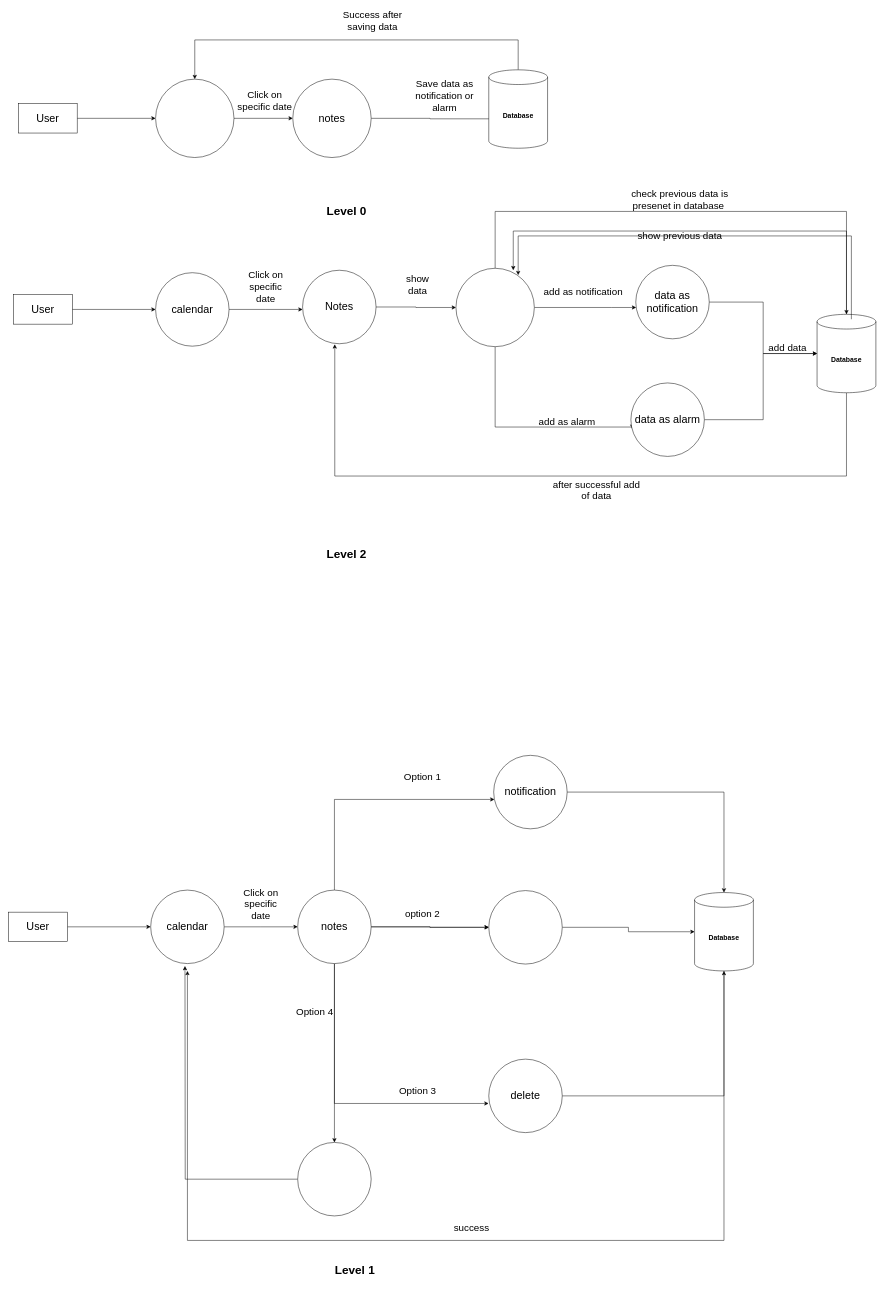
The diagram is 884 pixels wide and 1298 high, and some of its shapes have lost their labels. The centre of each missing label's shape, as x and y in pixels:
alarm: (x=525, y=927)
calendar date: (x=194, y=118)
Cancel: (x=334, y=1179)
show previous data and have add option: (x=494, y=307)
